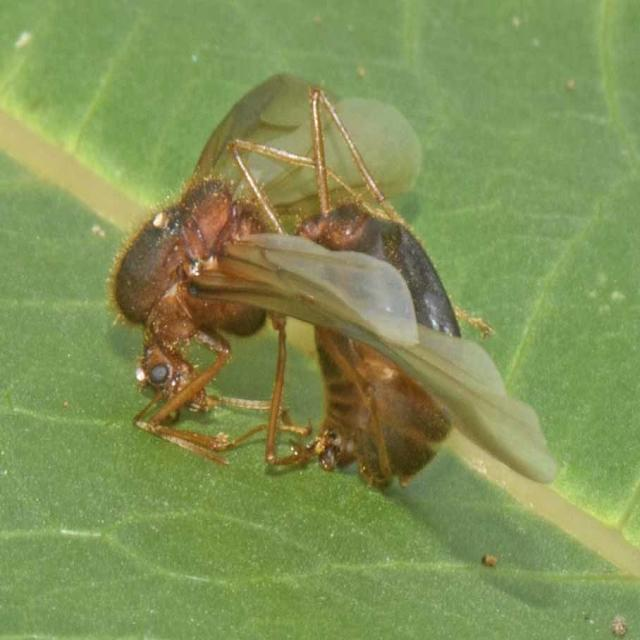Dead-Male-Alate: (105, 71, 640, 585)
